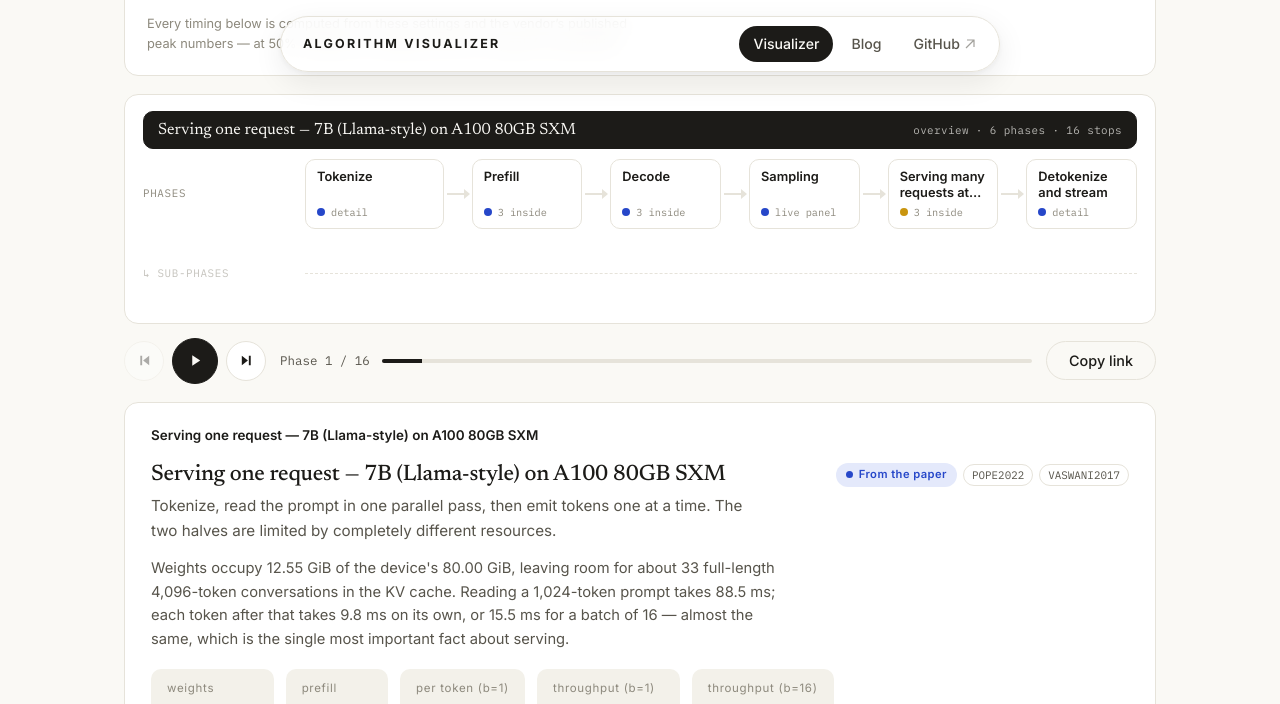
Test: phase player › plays through the pipeline end to end and stops on the last phase
(page scrolled)
Click the button named "play" at (195, 361), box [172,338,218,384]
Wait 48000 ms
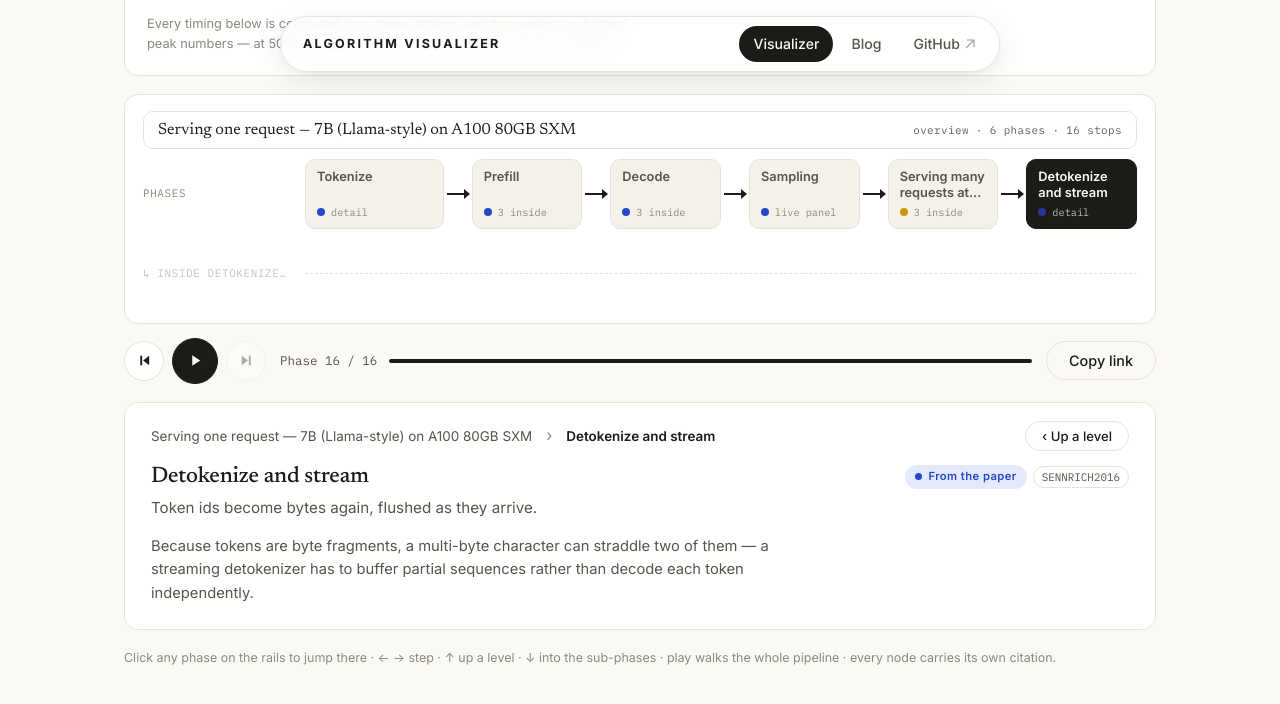
Result: the text "Phase 16 / 16" is shown at [280,351,377,371]
Result: the heading "Detokenize and stream" is shown at [151,466,369,488]
Result: the button named "next phase" is disabled at [226,341,266,381]
